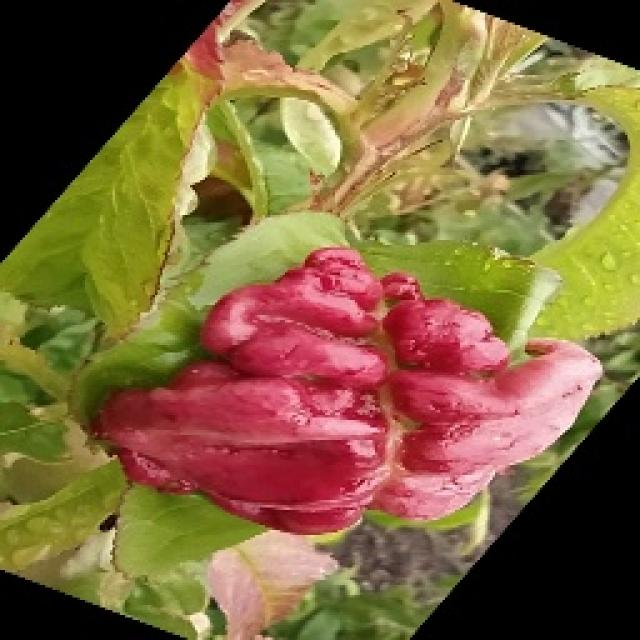peach_leaf_curl: (90, 243, 605, 535)
